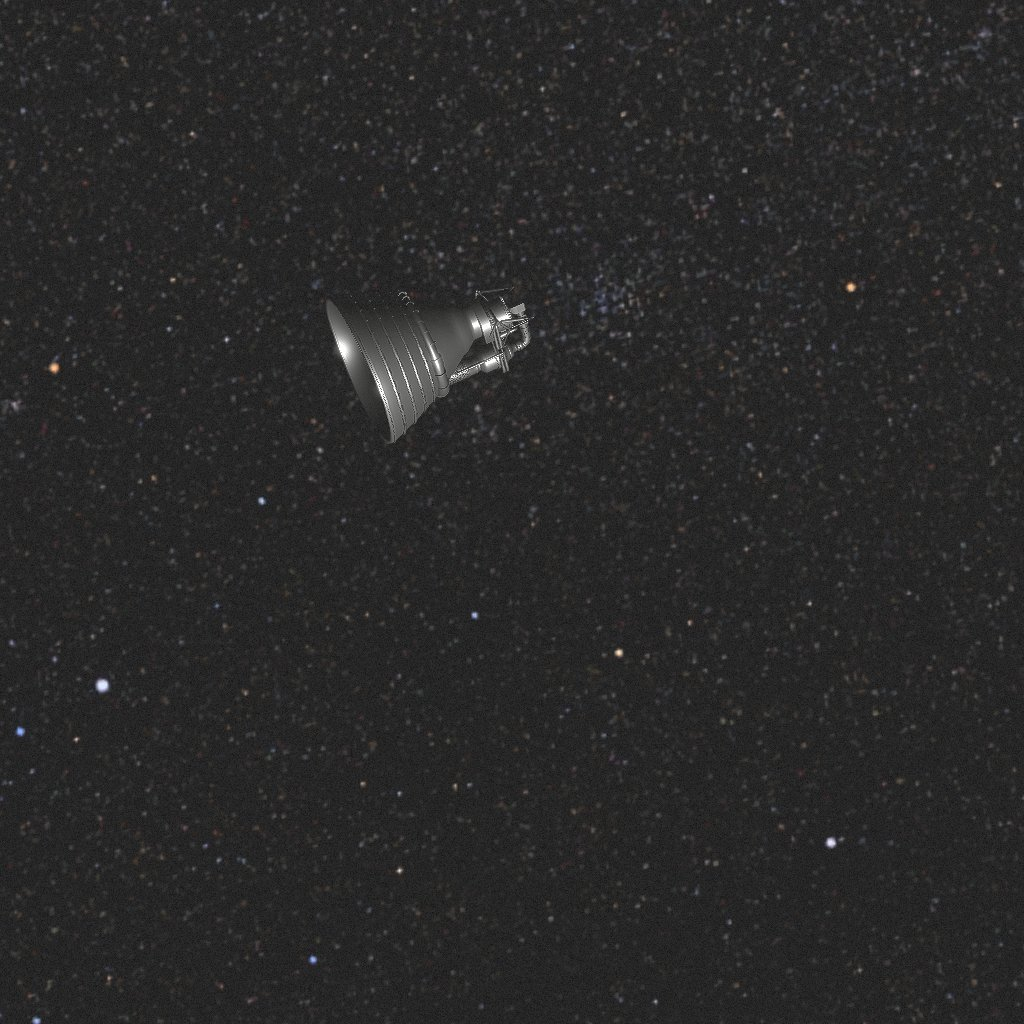debris: (324, 287, 534, 444)
